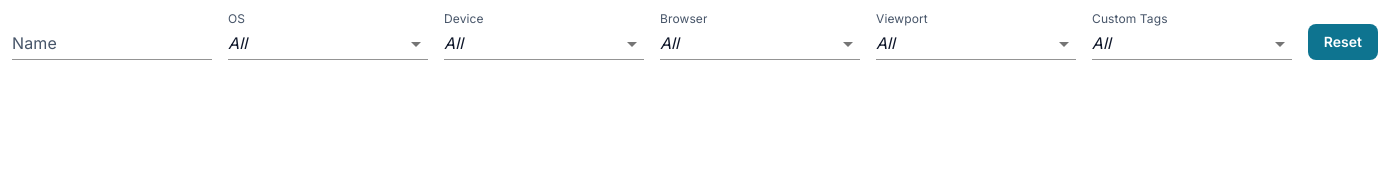
Scenario: Filters name search › shows the new value when the query is changed from outside
The image size is (1390, 172).
Type "abc" into the field labelled "Name" at (112, 44), box [12,28,212,60]
Then press Enter
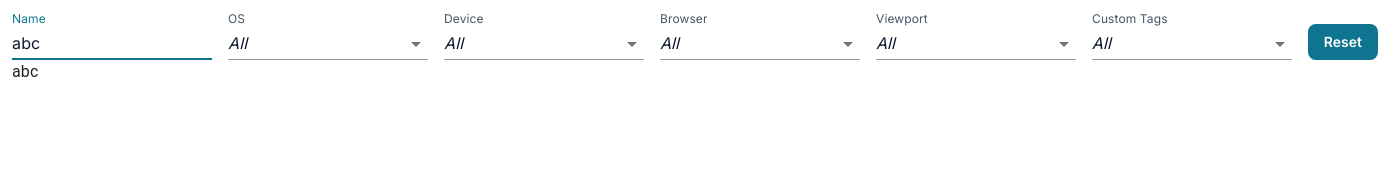
Click the button "Reset" at (1343, 42), box [1308,24,1378,60]
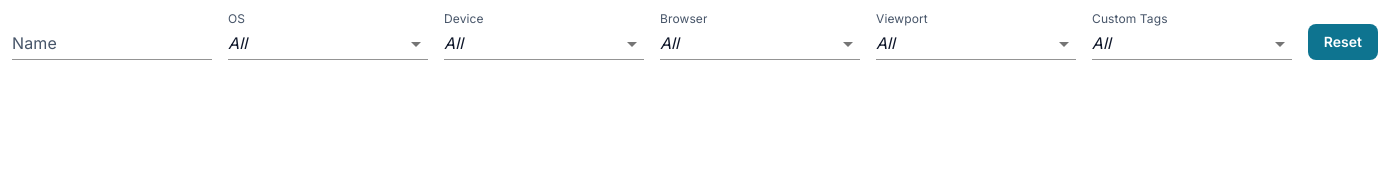
Now the field labelled "Name" is empty, box [12,28,212,60]
